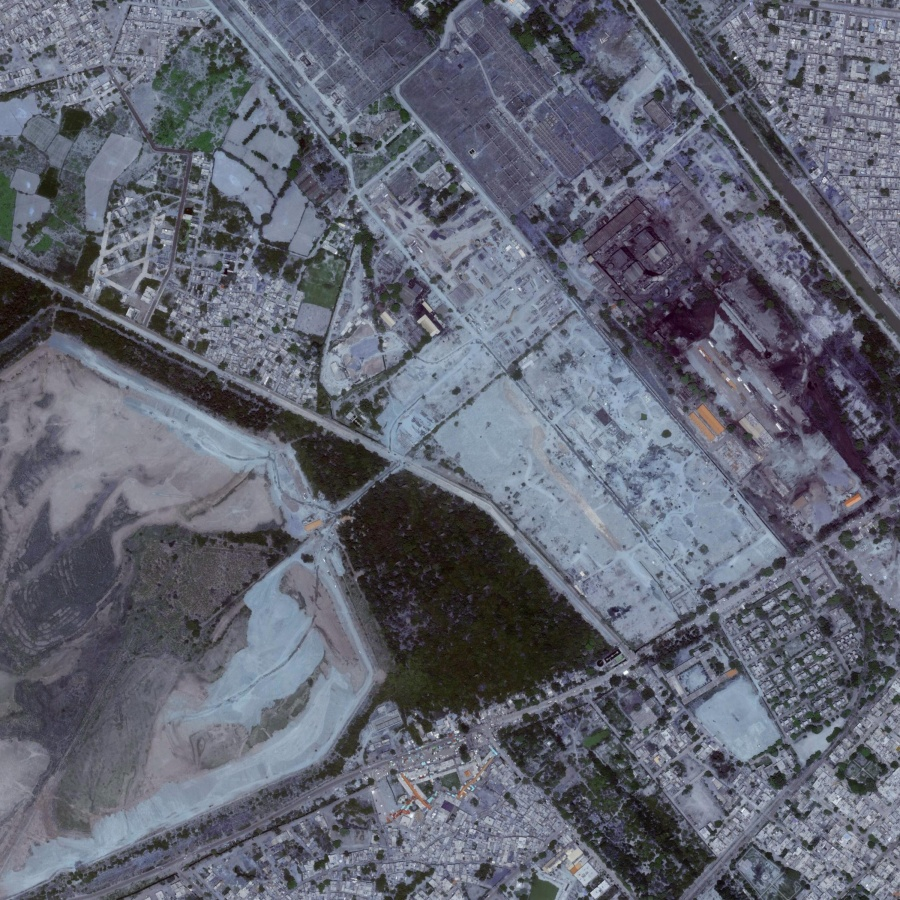PowerPlant: (584, 191, 883, 514)
